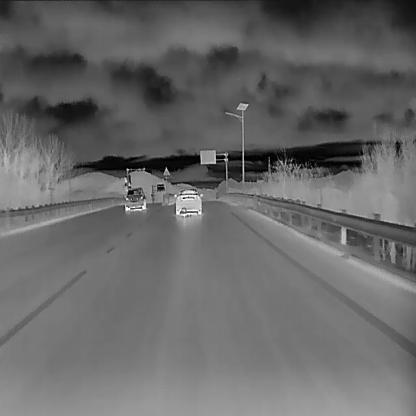car: (173, 187, 203, 215), (124, 186, 147, 210)
